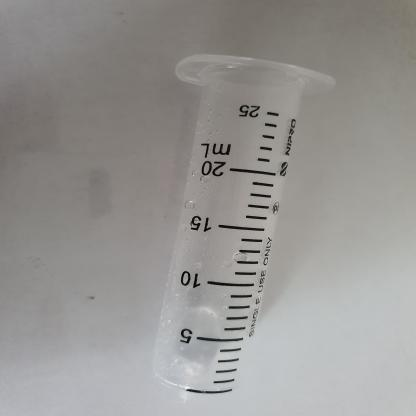wet: (160, 45, 321, 412)
